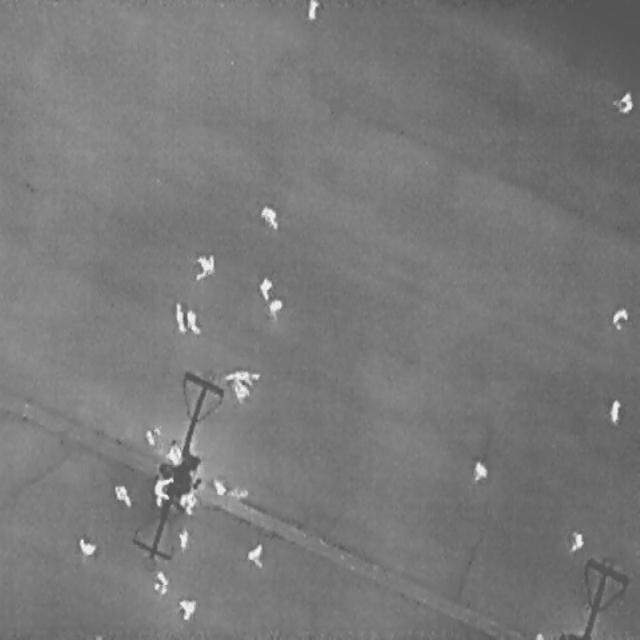Person: (108, 478, 133, 514), (222, 366, 259, 385), (182, 305, 203, 337), (229, 375, 252, 404), (151, 477, 172, 508), (257, 202, 281, 228), (149, 567, 168, 595), (171, 300, 186, 334), (194, 254, 215, 278), (176, 598, 197, 620), (611, 306, 628, 332), (75, 536, 97, 556), (472, 456, 487, 484), (616, 89, 632, 115), (179, 490, 196, 514), (569, 527, 583, 555), (246, 542, 262, 566), (258, 274, 272, 300), (610, 395, 621, 427), (268, 296, 281, 322), (167, 438, 180, 464), (143, 426, 159, 446), (211, 476, 227, 495), (306, 0, 319, 20), (178, 528, 188, 550)
